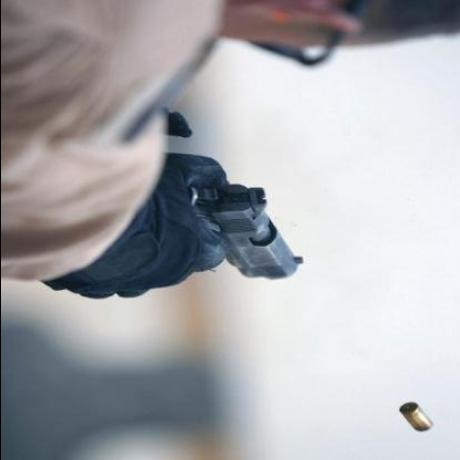weapon: (173, 175, 317, 288)
